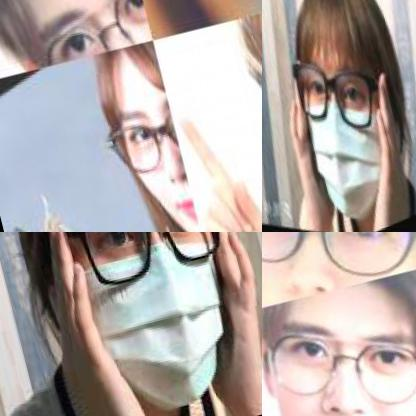Glasses: (262, 286, 415, 415), (280, 35, 398, 172), (83, 66, 189, 211), (262, 232, 415, 316), (3, 0, 152, 71), (227, 0, 261, 142)
glasses: (59, 232, 238, 298)
